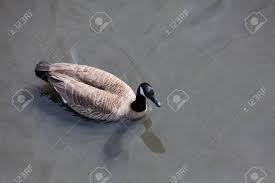goose: (32, 54, 165, 128)
